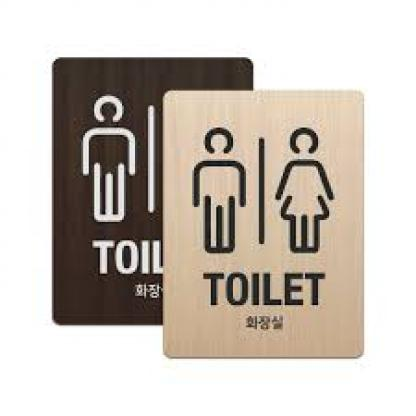toilet: (192, 122, 338, 264)
